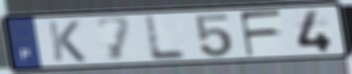4: (295, 9, 335, 54)
5: (192, 12, 236, 58)
7: (95, 16, 134, 64)
F: (237, 8, 284, 58)
K: (45, 20, 89, 63)
L: (143, 14, 190, 62)
